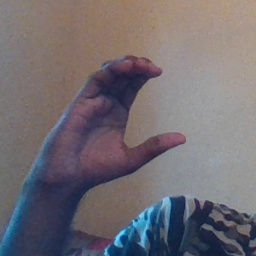C: (94, 46, 191, 179)
